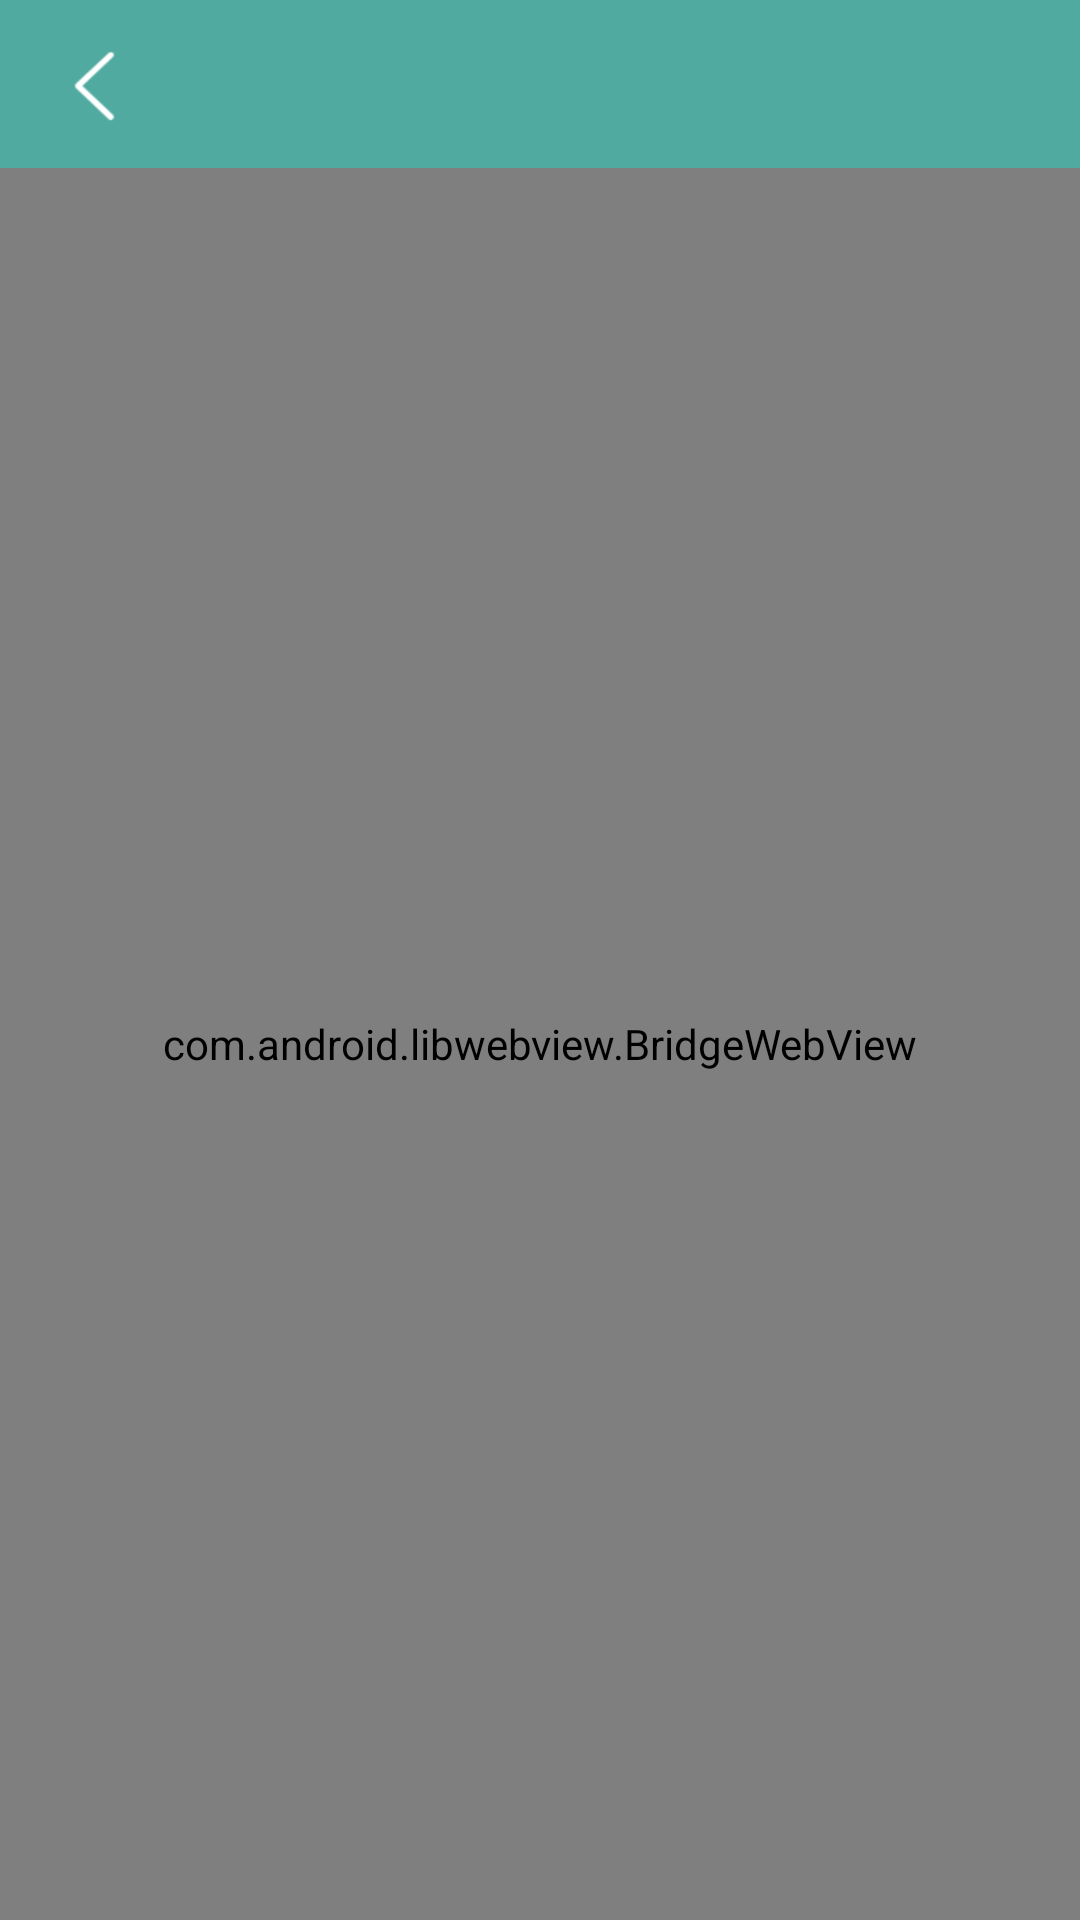

Icon click points for this 1080w x 1920h phone screenshot, format (x,y):
back: (94,86)
